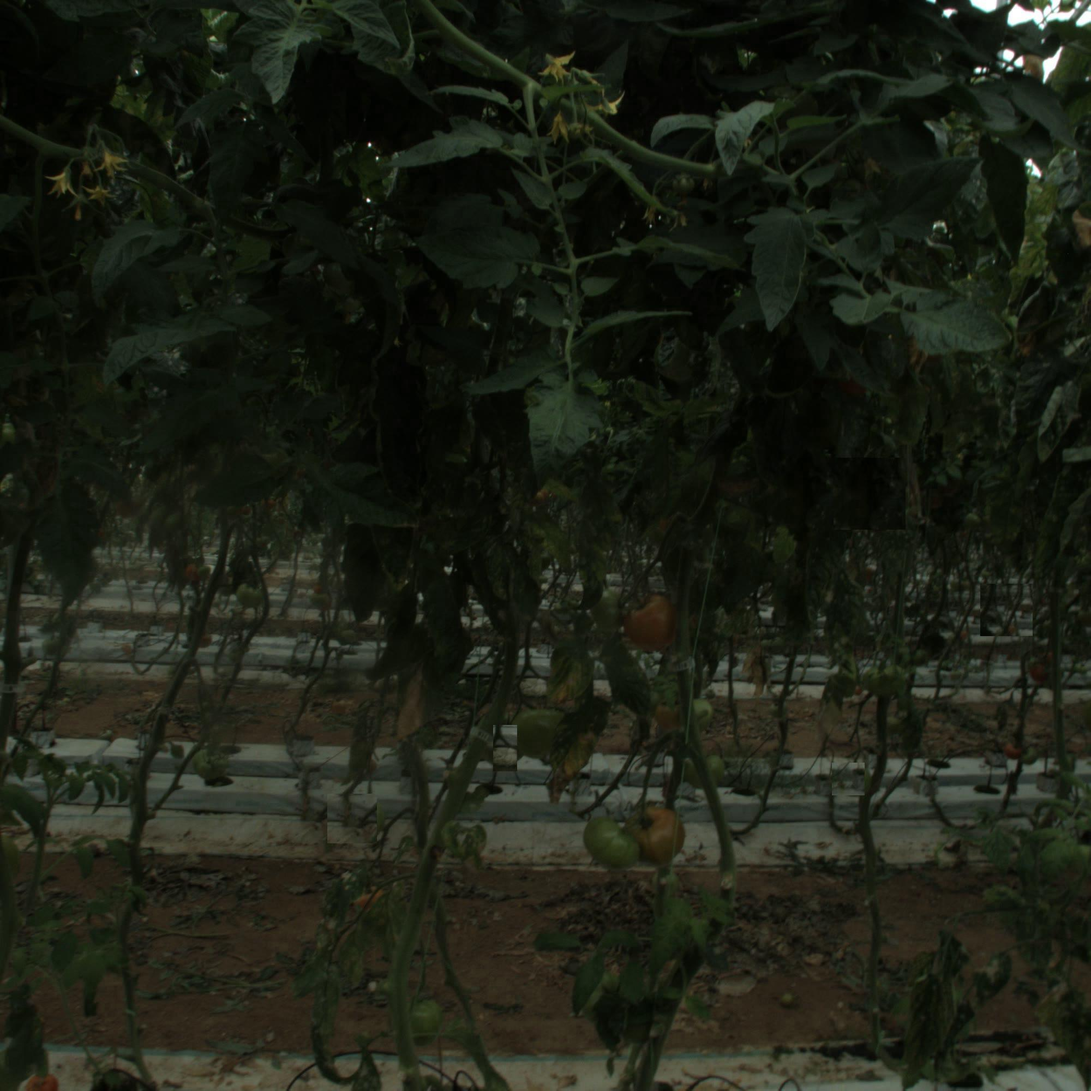['unripe', 'semi-ripe', 'fully-ripe']: (586, 812, 643, 868), (514, 709, 562, 757)
